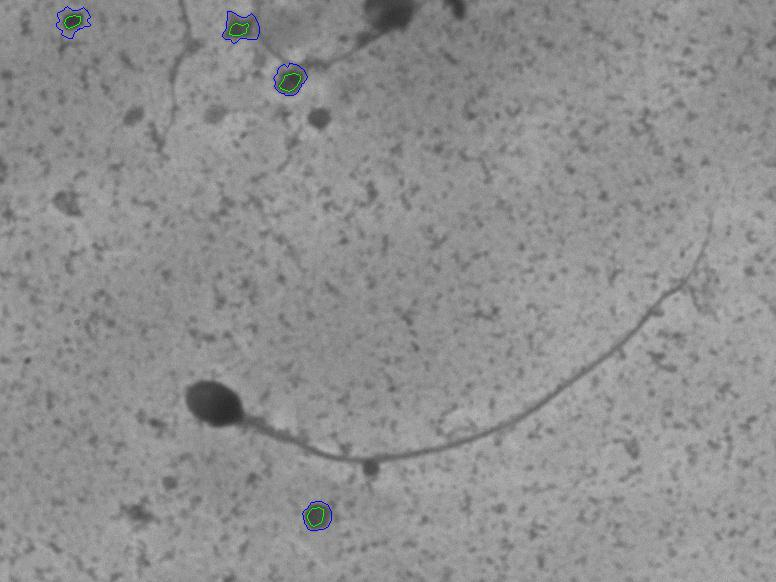Normal: (145, 195, 736, 483)
